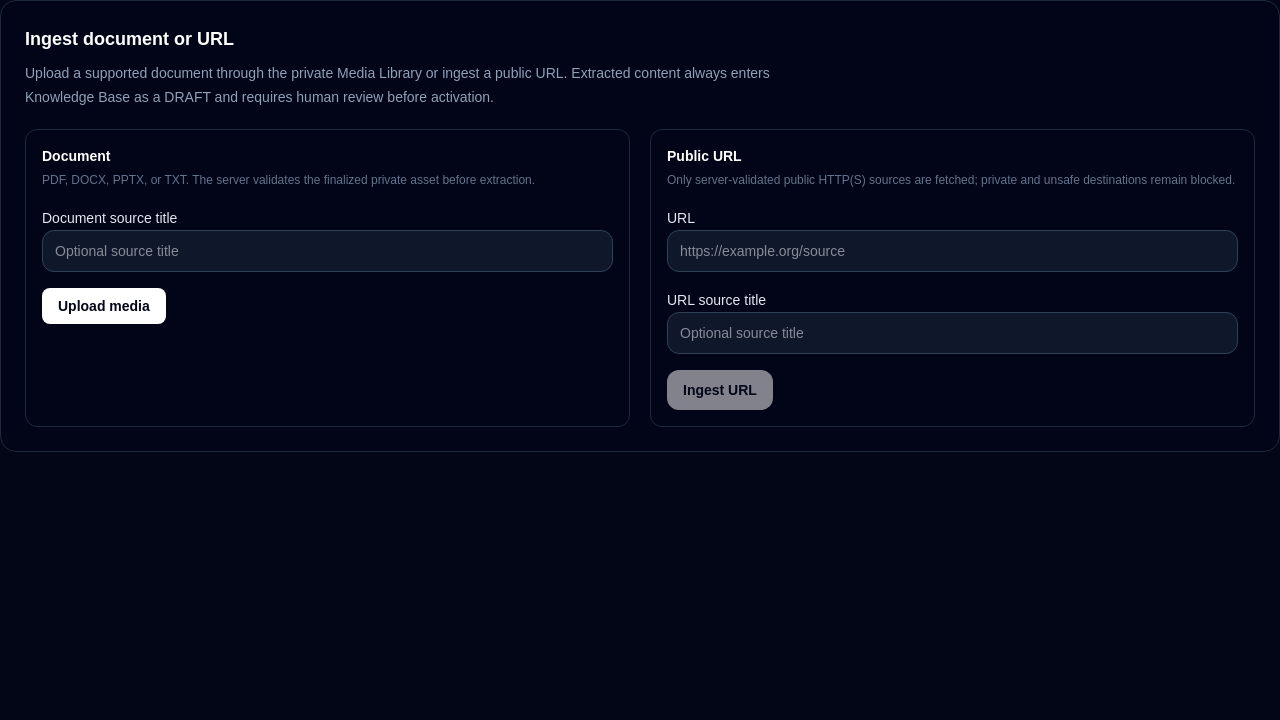
KnowledgeIngestionPanel › ingests a URL into DRAFT without exposing an activation shortcut or approval claim
The image size is (1280, 720).
Type "https://example.org/programmes" into the field named "Knowledge URL" at (952,251), box 667,230 -> 1238,272
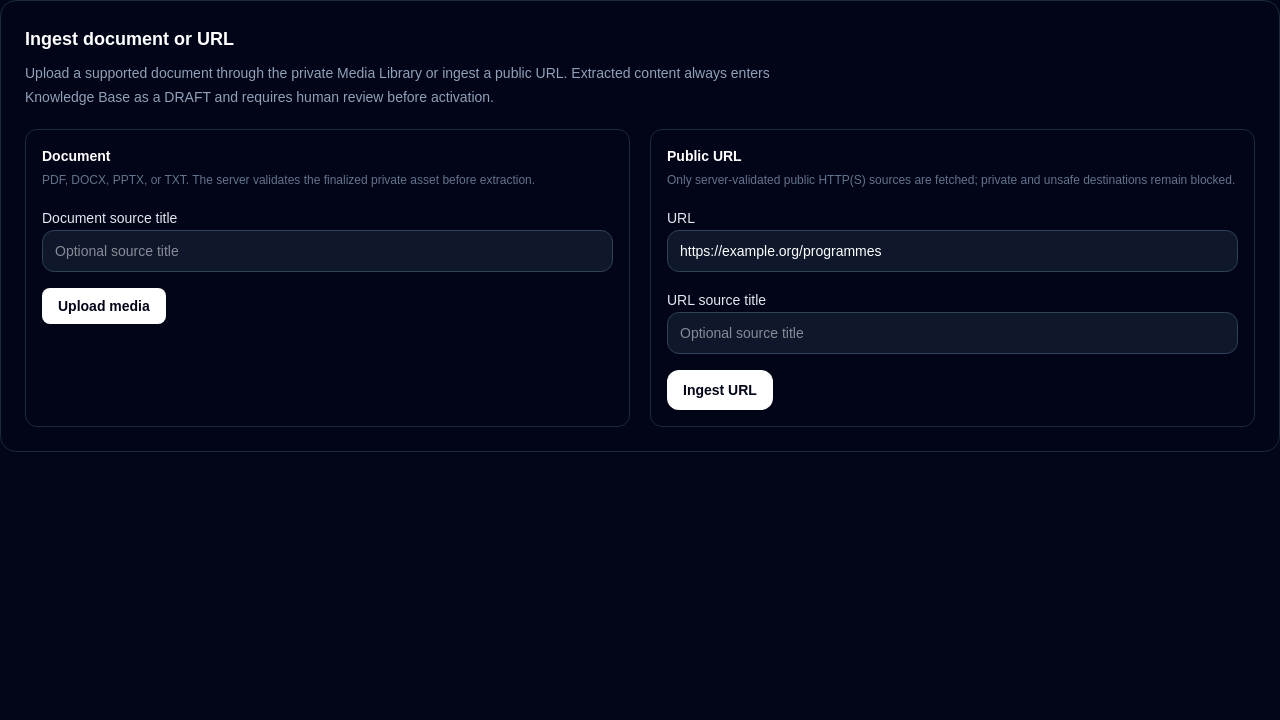
Type "PAK Programmes" into the field labelled "URL source title" at (952,333), box 667,312 -> 1238,354
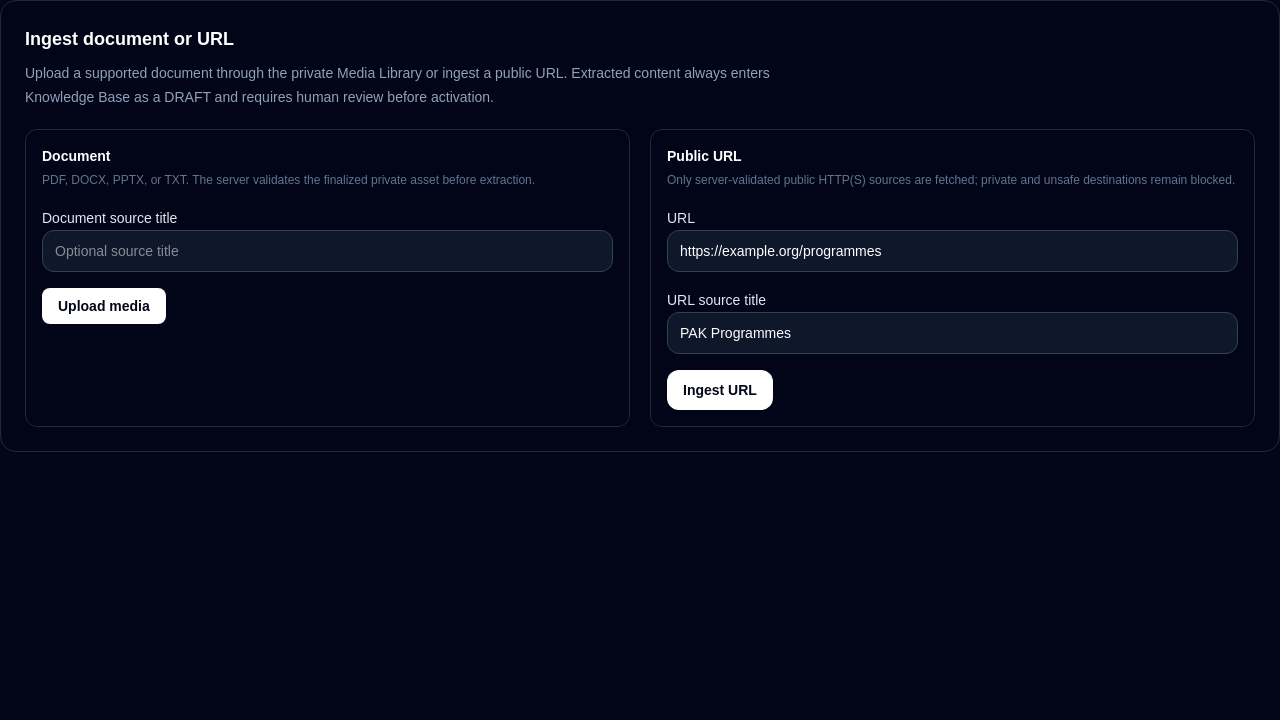
Click the button "Ingest URL" at (720,390), box 667,370 -> 773,410
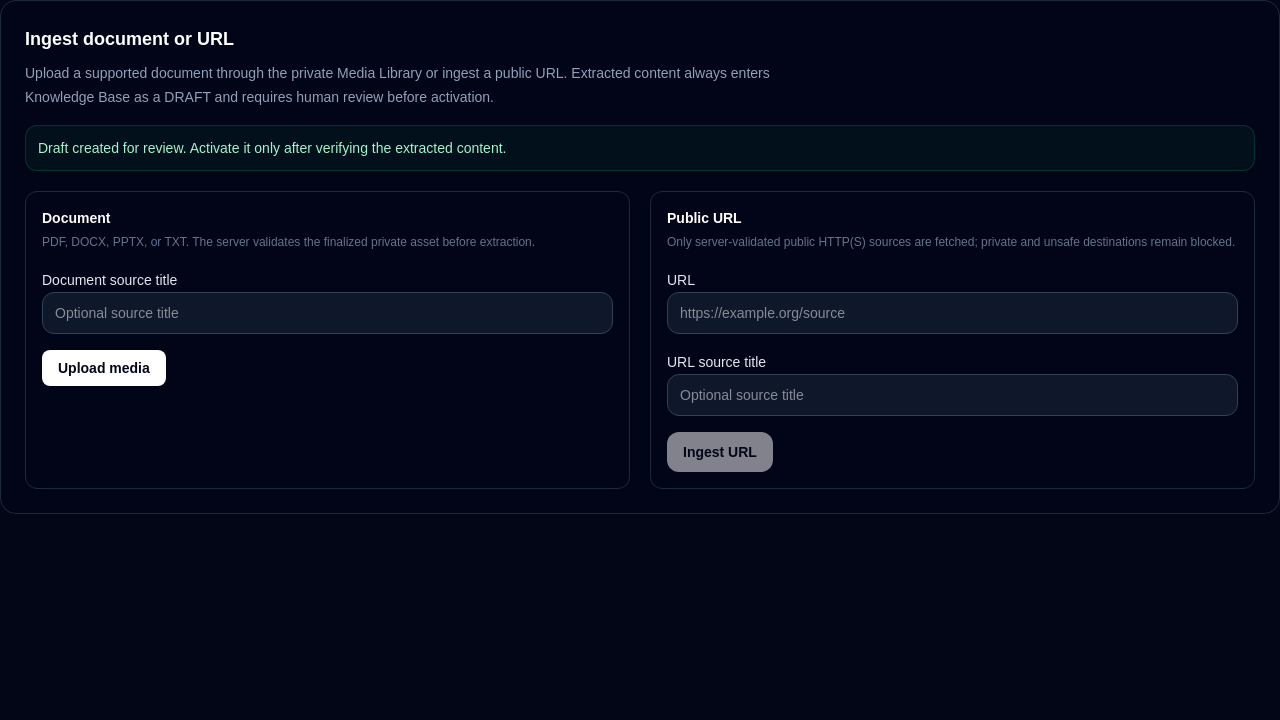
expect the text "Draft created for review" is shown: met, box 38,140 -> 506,156
